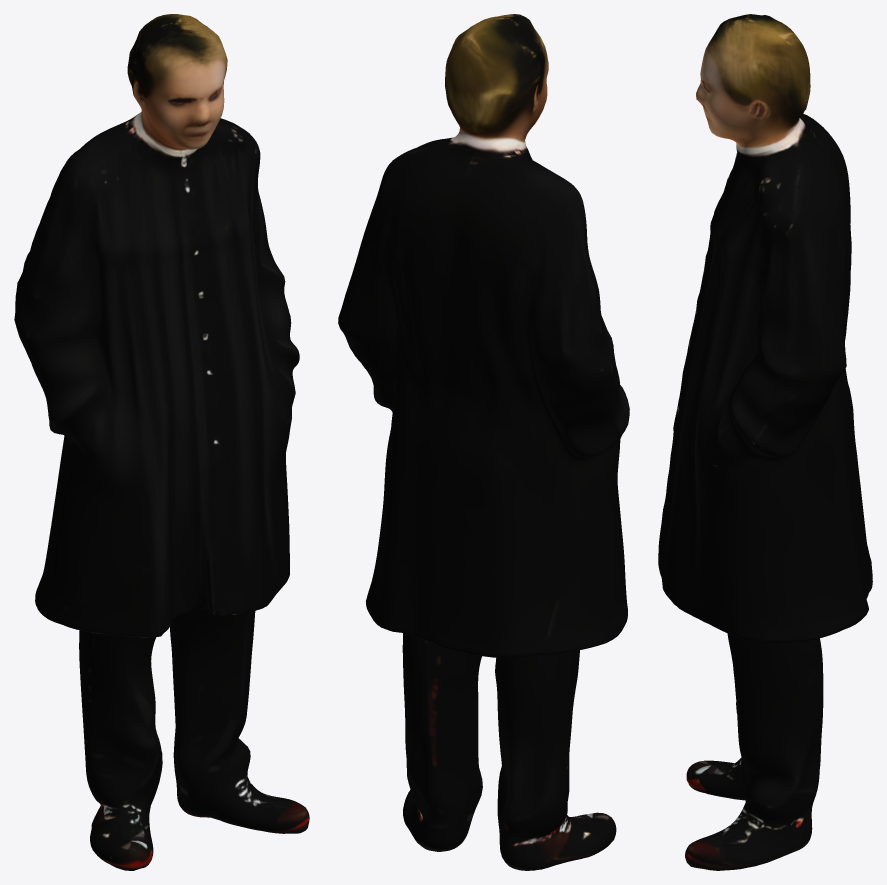
Rendered from donbosco.gltf.
3 renders of one model, left to right at view 1: azimuth 30°, elevation 25°; view 2: azimuth 150°, elevation 25°; view 3: azimuth 270°, elevation 25°, orthographic. The views are drawn at different scales.
Visible parts, largest first — view 1: model; view 2: model; view 3: model.
Part boxes in pixels (bbox=[...]): model: bbox=[14, 14, 309, 870]; model: bbox=[338, 14, 629, 870]; model: bbox=[658, 14, 872, 870].
Size of the model in its own units: 2.85 by 8.65 by 2.09.
1 material, 1 textured.
